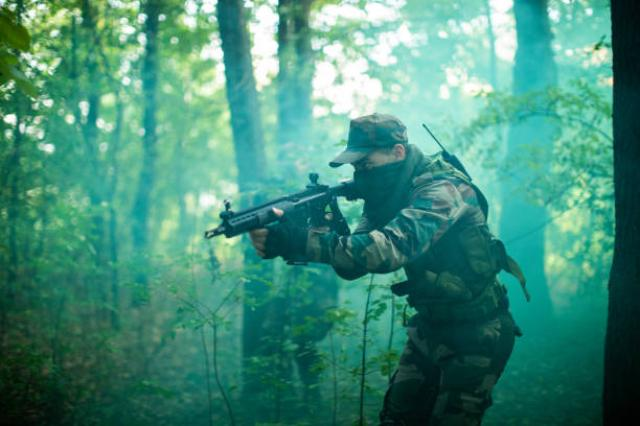other: (337, 115, 507, 410)
